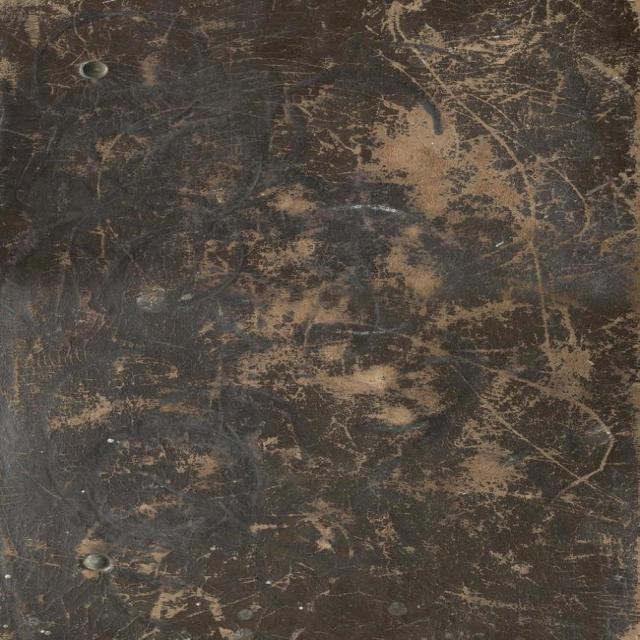Rotten surface: (251, 289, 455, 433), (364, 101, 537, 237)
